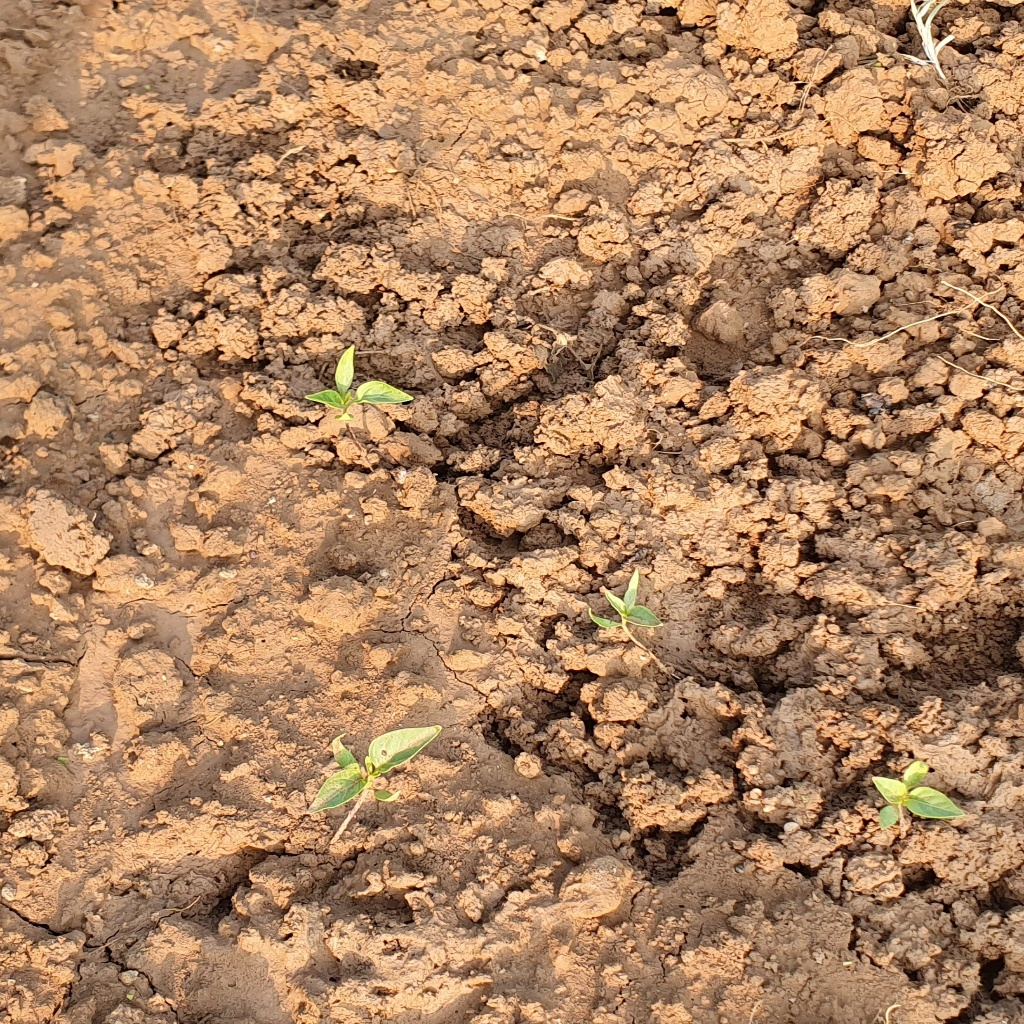weed: (308, 724, 422, 819), (861, 760, 956, 839), (581, 586, 663, 653), (301, 368, 392, 426)
